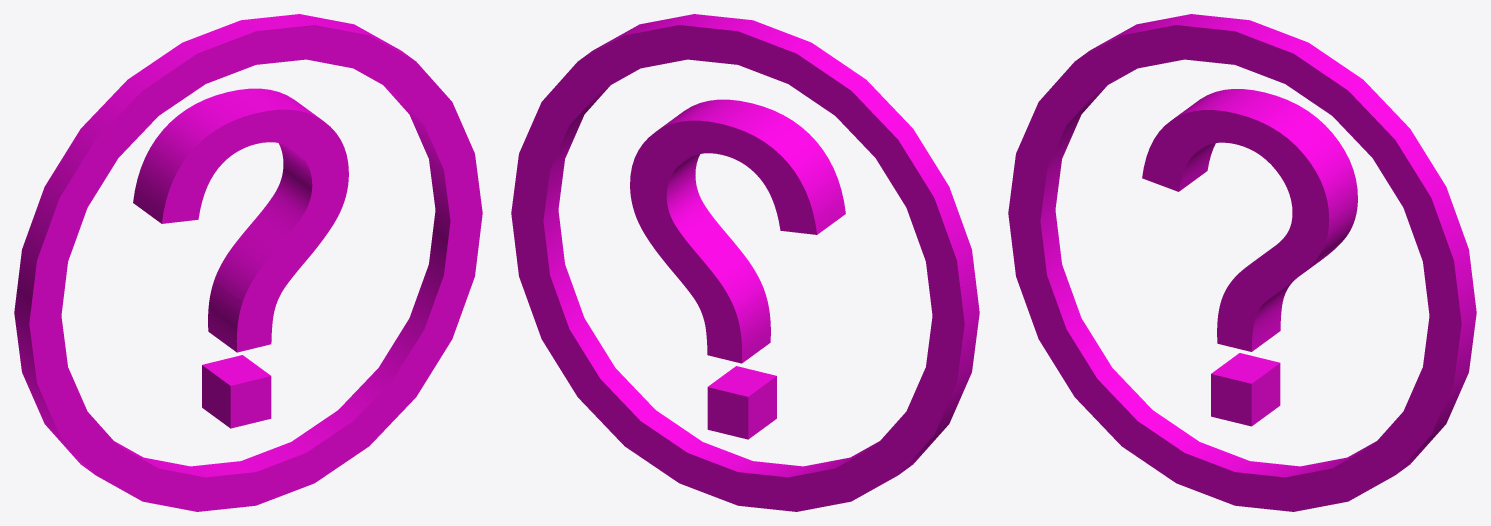
Rendered from Random.fbx.
The picture shows the model from 3 angles, left to right: view 1: azimuth 30°, elevation 25°; view 2: azimuth 150°, elevation 25°; view 3: azimuth 330°, elevation 25°; orthographic projection.
Parts seen in each view (by area): view 1: Random; view 2: Random; view 3: Random.
Part boxes in pixels (<box>): Random: <box>14,14,482,511</box>; Random: <box>511,14,979,511</box>; Random: <box>1008,14,1476,511</box>.
Bounding box in the file's own units: 39.42 × 39.42 × 4.43.
